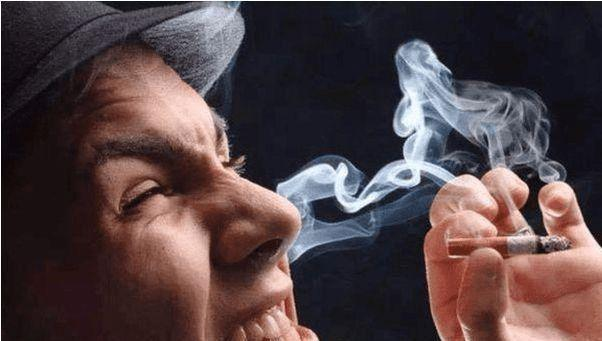smoke: (447, 236, 572, 256)
